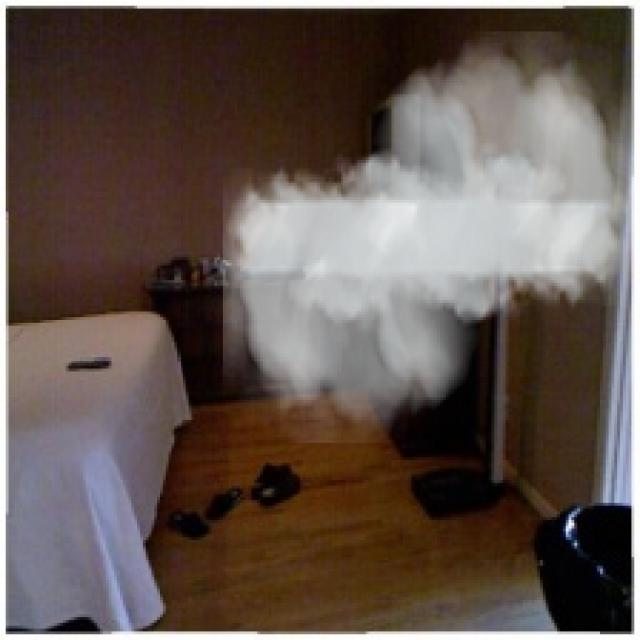smoke: (223, 31, 631, 443)
